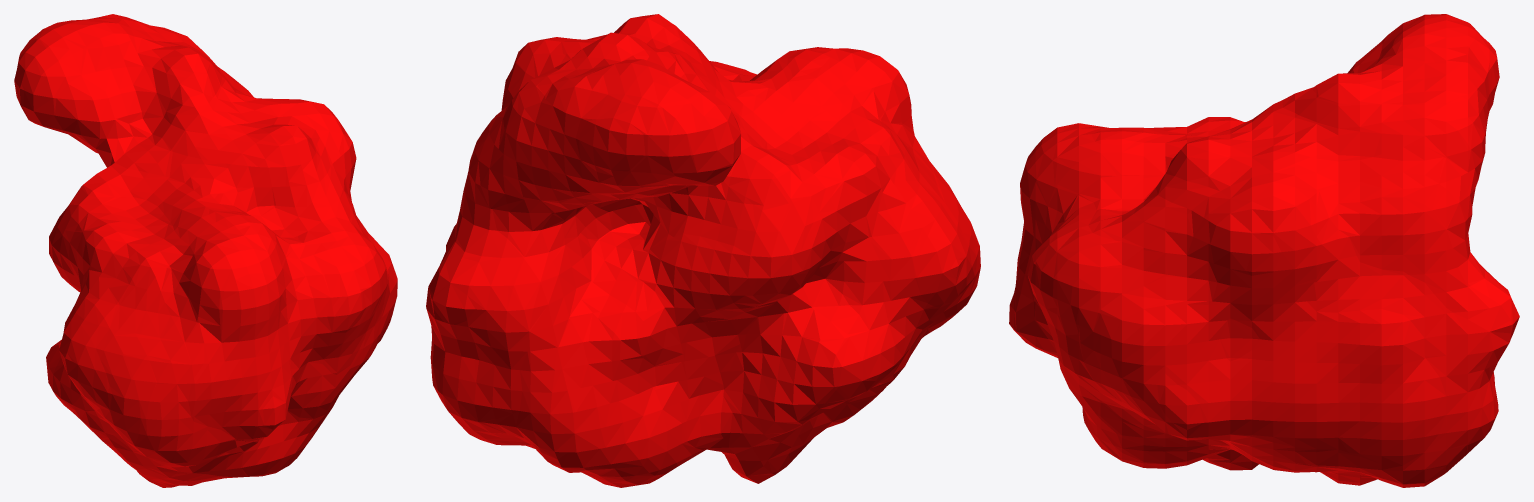
The model's file is ybjS_coarse.dae.
3 renders of one model, left to right at view 1: azimuth 30°, elevation 25°; view 2: azimuth 150°, elevation 25°; view 3: azimuth 270°, elevation 25°, orthographic. The views are drawn at different scales.
Parts seen in each view (by area): view 1: ybjS; view 2: ybjS; view 3: ybjS.
Boxes of the visible parts, box(x1,y1,x2,y2) form: ybjS: box(14, 14, 397, 487); ybjS: box(426, 14, 980, 487); ybjS: box(1009, 14, 1519, 487).
Bounding box in the file's own units: 49.98 × 58.42 × 60.48.
